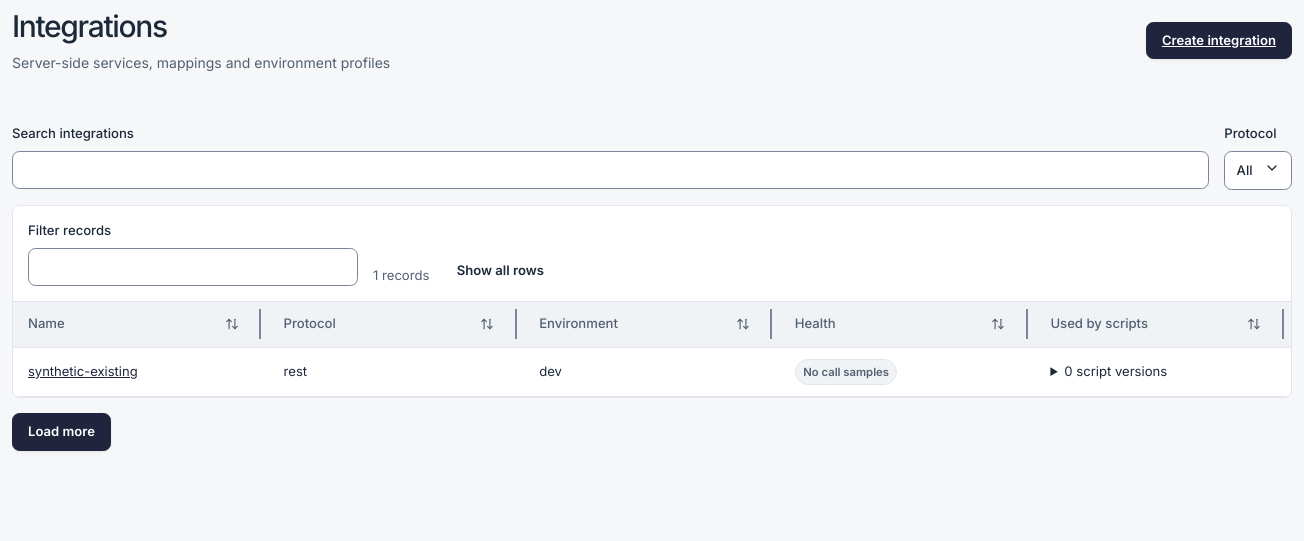
Test case: lists integration health for breaker state 0, loads usage and paginates
Expected: the table is shown, [13,302,1291,397]
Click the button "Show all rows". click: [500, 271]
box: [444,256,556,286]
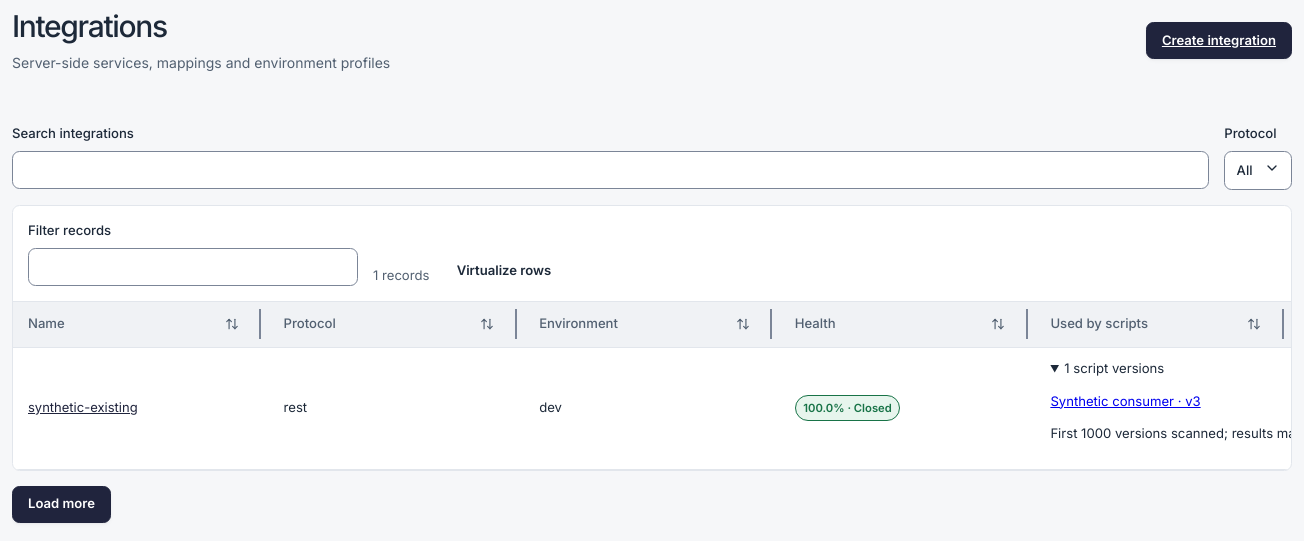
Result: the text "100.0% · Closed" is shown at [795,395,900,421]
Result: the link "Synthetic consumer · v3" is shown at [1050,393,1201,409]
Click the button "Load more". click: [62, 504]
box: [12,486,111,523]
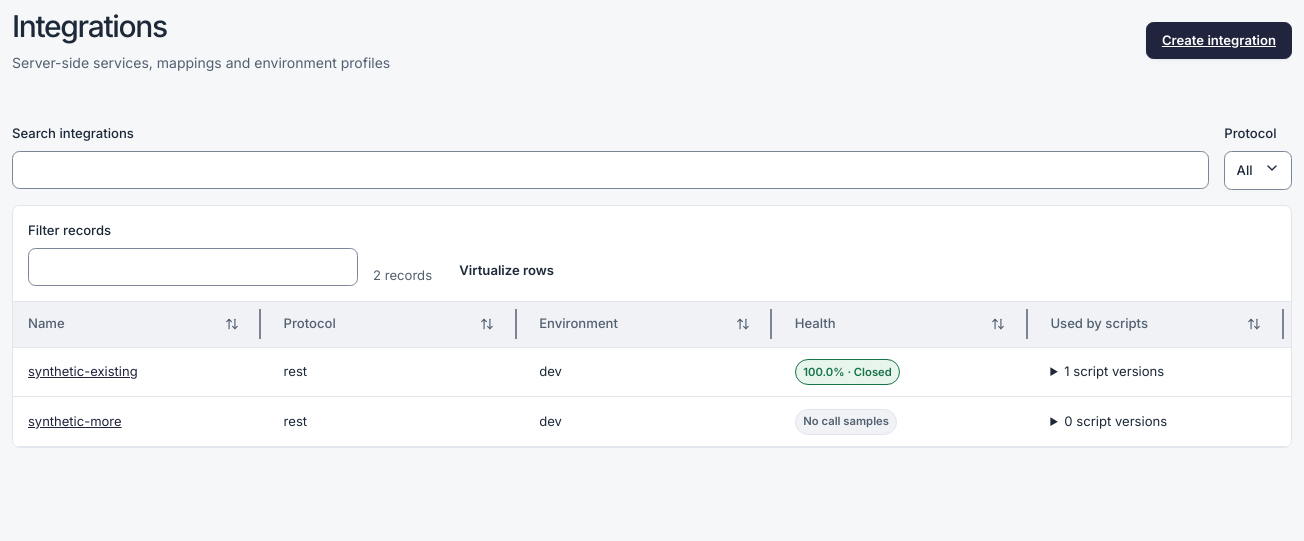
Expected: the table is shown, [13,302,1291,447]
Result: the link "synthetic-more" is shown at [28,413,122,429]
